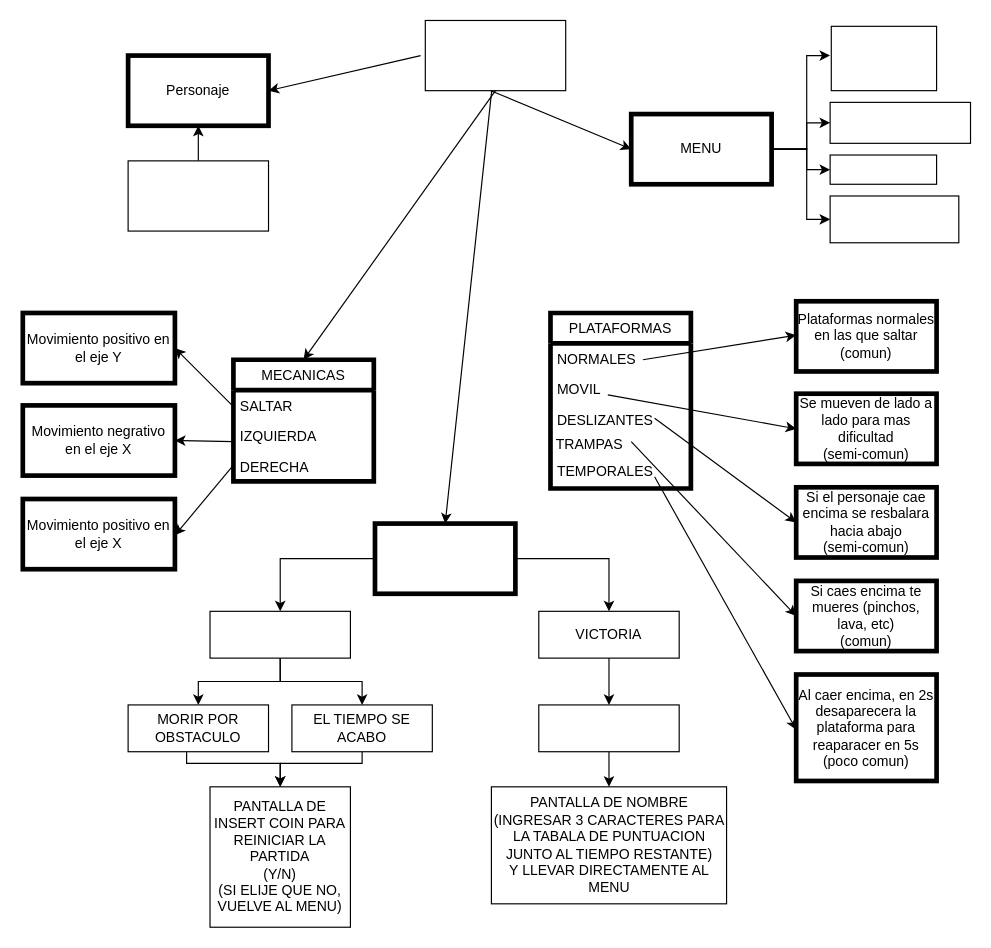
Image size: 991x948. Some labels were removed from this diagram. The centre of each missing label's shape, as x and y in pixels:
CERRA JUEGO: the point at 894,219
CONDICIONES: the point at 444,558
DERROTA: the point at 279,634
INSERT COIN (Y/N): the point at 883,58
JUEGO DE SALTAR: the point at 495,55
LLEGAR A LA META: the point at 608,728
PUNTUACIONES: the point at 900,122
TIENE 1 VIDA: the point at 198,195
VOLUMEN: the point at 883,169
